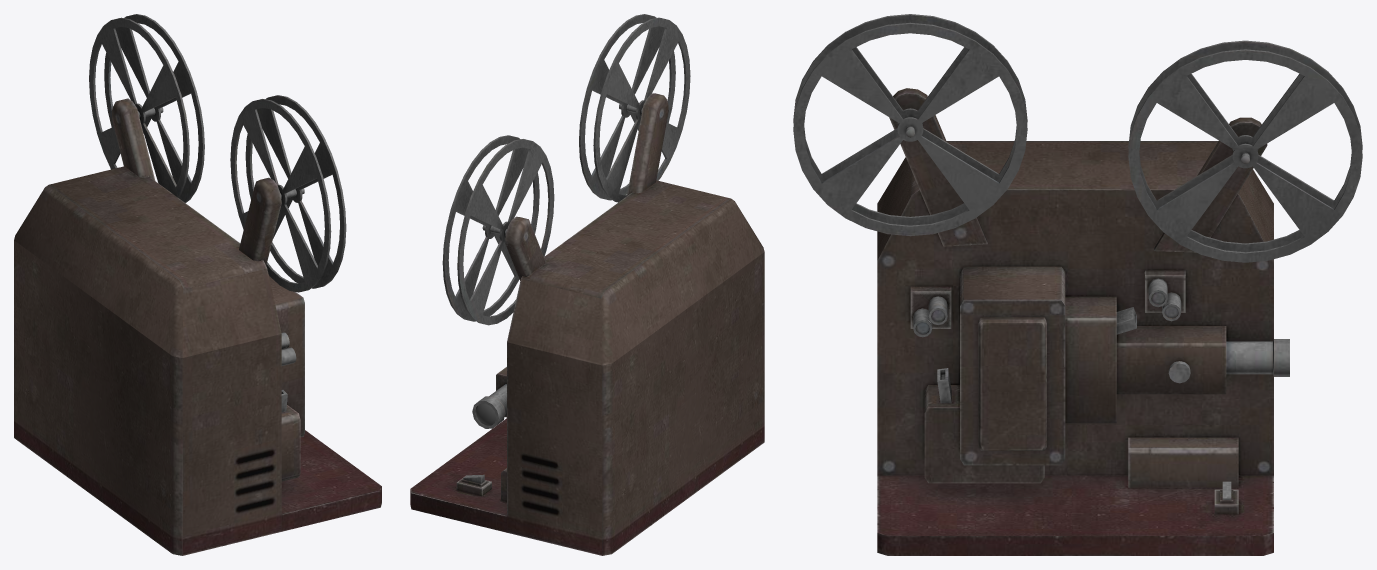
File: projector.glb
3 renders of one model, left to right at view 1: azimuth 30°, elevation 25°; view 2: azimuth 150°, elevation 25°; view 3: azimuth 270°, elevation 25°, orthographic. The views are drawn at different scales.
Parts seen in each view (by area): view 1: model.dae; view 2: model.dae; view 3: model.dae.
Part boxes in pixels (x1,y1,x2,y2): model.dae: (14,14,381,555); model.dae: (410,14,764,555); model.dae: (793,14,1362,555).
Bounding box in the file's own units: 1.01 × 1.89 × 2.
1 material, 1 textured.
